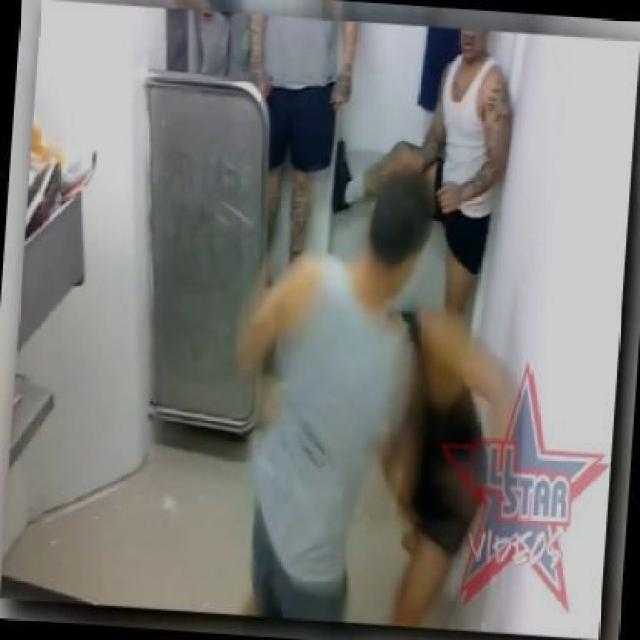fight: (234, 164, 552, 637)
non-fight: (332, 20, 512, 344), (236, 7, 362, 297)
